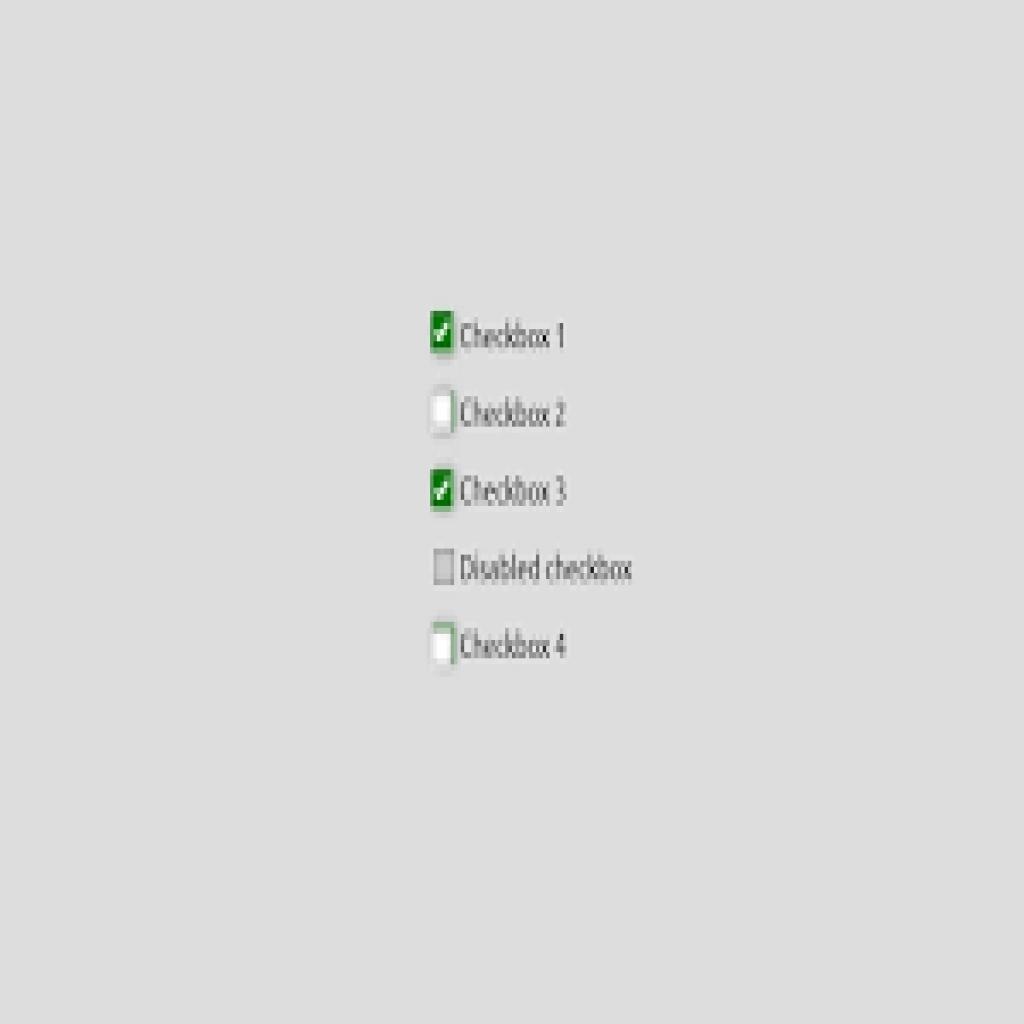checkbox: (427, 386, 454, 435), (430, 311, 455, 354), (431, 623, 456, 666), (432, 548, 457, 586), (431, 470, 453, 509)
label: (459, 547, 635, 587), (457, 621, 572, 664), (461, 391, 570, 434), (459, 316, 571, 354), (460, 471, 572, 509)
